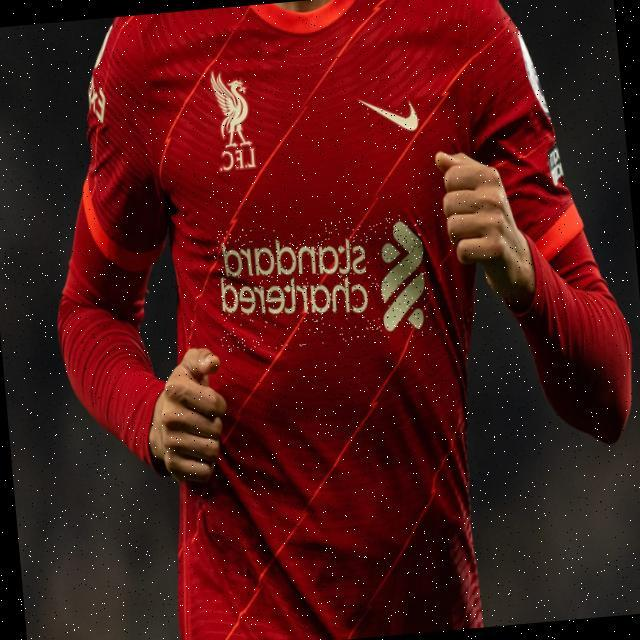Nike: (359, 86, 423, 138)
Standard Chartered: (211, 213, 432, 353)
